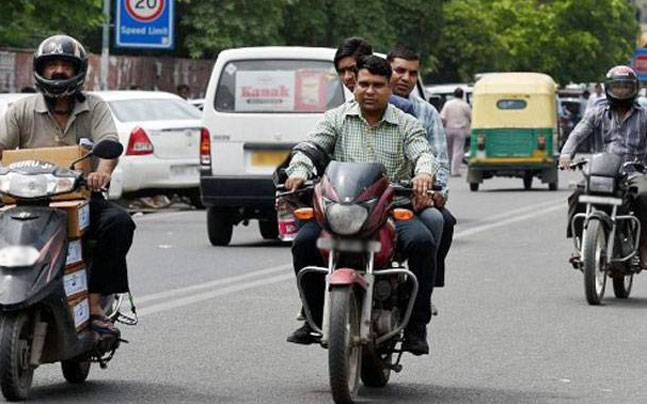two_wheeler: (267, 27, 466, 404), (1, 8, 168, 404), (556, 52, 647, 322)
